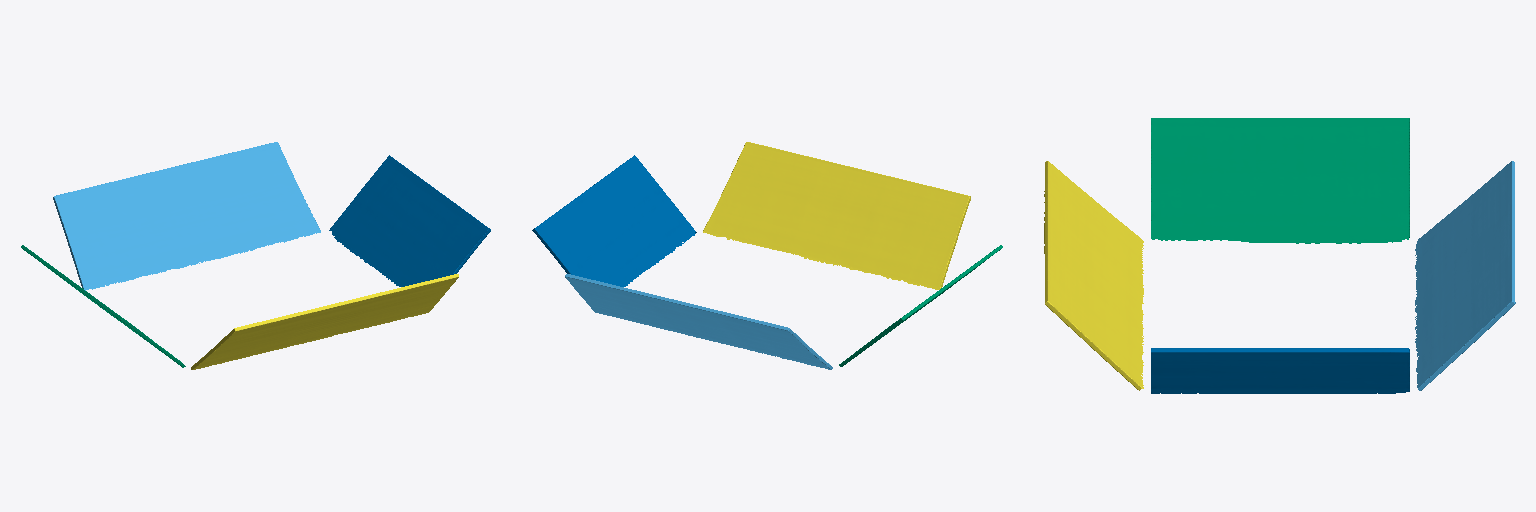
The robot description file, URDF, robot "box_00":
<?xml version='1.0' encoding='utf-8'?>
<robot name="box_00">
  <link name="l_0">
    <visual>
      <origin xyz="0 0 0" rpy="0 0 0" />
      <geometry>
        <mesh filename="./box_00_objs/0/0.obj" />
      </geometry>
    </visual>
    <collision>
      <origin xyz="0 0 0" rpy="0 0 0" />
      <geometry>
        <mesh filename="./box_00_objs/0/0.obj" />
      </geometry>
    </collision>
  </link>
  <link name="l_1">
    <visual>
      <origin xyz="0.0025000000000000044 -0.2425 -0.06250000000000006" rpy="0 0 0" />
      <geometry>
        <mesh filename="./box_00_objs/1/1.obj" />
      </geometry>
    </visual>
    <collision>
      <origin xyz="0.0025000000000000044 -0.2425 -0.06250000000000006" rpy="0 0 0" />
      <geometry>
        <mesh filename="./box_00_objs/1/1.obj" />
      </geometry>
    </collision>
  </link>
  <link name="l_2">
    <visual>
      <origin xyz="0.33249999999999996 0.0025000000000000044 -0.06250000000000006" rpy="0 0 0" />
      <geometry>
        <mesh filename="./box_00_objs/2/2.obj" />
      </geometry>
    </visual>
    <collision>
      <origin xyz="0.33249999999999996 0.0025000000000000044 -0.06250000000000006" rpy="0 0 0" />
      <geometry>
        <mesh filename="./box_00_objs/2/2.obj" />
      </geometry>
    </collision>
  </link>
  <link name="l_3">
    <visual>
      <origin xyz="0.0025000000000000044 0.2525 -0.06250000000000006" rpy="0 0 0" />
      <geometry>
        <mesh filename="./box_00_objs/3/3.obj" />
      </geometry>
    </visual>
    <collision>
      <origin xyz="0.0025000000000000044 0.2525 -0.06250000000000006" rpy="0 0 0" />
      <geometry>
        <mesh filename="./box_00_objs/3/3.obj" />
      </geometry>
    </collision>
  </link>
  <link name="l_4">
    <visual>
      <origin xyz="-0.32250000000000006 0.0025000000000000044 -0.06250000000000006" rpy="0 0 0" />
      <geometry>
        <mesh filename="./box_00_objs/4/4.obj" />
      </geometry>
    </visual>
    <collision>
      <origin xyz="-0.32250000000000006 0.0025000000000000044 -0.06250000000000006" rpy="0 0 0" />
      <geometry>
        <mesh filename="./box_00_objs/4/4.obj" />
      </geometry>
    </collision>
  </link>
  <joint name="j_1" type="revolute">
    <parent link="l_0" />
    <child link="l_1" />
    <origin xyz="-0.0025000000000000044 0.2425 0.06250000000000006" rpy="0 0 0" />
    <axis xyz="1.0 0.0 0.0" />
    <limit lower="-2.3876" upper="2.1991" effort="10" velocity="10" />
  </joint>
  <joint name="j_2" type="revolute">
    <parent link="l_0" />
    <child link="l_2" />
    <origin xyz="-0.33249999999999996 -0.0025000000000000044 0.06250000000000006" rpy="0 0 0" />
    <axis xyz="0.0 1.0 0.0" />
    <limit lower="-2.3876" upper="2.1991" effort="10" velocity="10" />
  </joint>
  <joint name="j_3" type="revolute">
    <parent link="l_0" />
    <child link="l_3" />
    <origin xyz="-0.0025000000000000044 -0.2525 0.06250000000000006" rpy="0 0 0" />
    <axis xyz="1.0 0.0 0.0" />
    <limit lower="-2.0735" upper="2.5761" effort="10" velocity="10" />
  </joint>
  <joint name="j_4" type="revolute">
    <parent link="l_0" />
    <child link="l_4" />
    <origin xyz="0.32250000000000006 -0.0025000000000000044 0.06250000000000006" rpy="0 0 0" />
    <axis xyz="0.0 1.0 0.0" />
    <limit lower="-2.0735" upper="2.5761" effort="10" velocity="10" />
  </joint>
</robot>

--- Facts derived from the render (not from the file) ---
3 views of the same robot in one strip: view 1: azimuth 30°, elevation 25°; view 2: azimuth 150°, elevation 25°; view 3: azimuth 270°, elevation 25° (orthographic).
Robot: box_00 — 5 links, 4 joints (4 revolute); root link l_0; default pose: every joint at zero.
Visible links, largest first — view 1: l_1, l_4, l_3, l_2; view 2: l_3, l_4, l_1, l_2; view 3: l_2, l_1, l_3, l_4.
Link boxes in pixels (x1=…): l_1: x1=53, y1=142, x2=320, y2=290; l_4: x1=329, y1=155, x2=490, y2=286; l_3: x1=191, y1=274, x2=458, y2=369; l_2: x1=21, y1=245, x2=185, y2=367; l_3: x1=703, y1=142, x2=970, y2=289; l_4: x1=532, y1=155, x2=696, y2=286; l_1: x1=565, y1=274, x2=832, y2=369; l_2: x1=839, y1=245, x2=1002, y2=366; l_2: x1=1151, y1=118, x2=1409, y2=243; l_1: x1=1415, y1=161, x2=1515, y2=390; l_3: x1=1044, y1=161, x2=1143, y2=390; l_4: x1=1151, y1=348, x2=1409, y2=393.
Bounding box of the posed robot: 1 × 0.8536 × 0.1771 m (x, y, z).
4 mesh visuals loaded from 5 distinct referenced files (4 OBJ); not drawn: 1 (reference not matched to a file when rendering).
